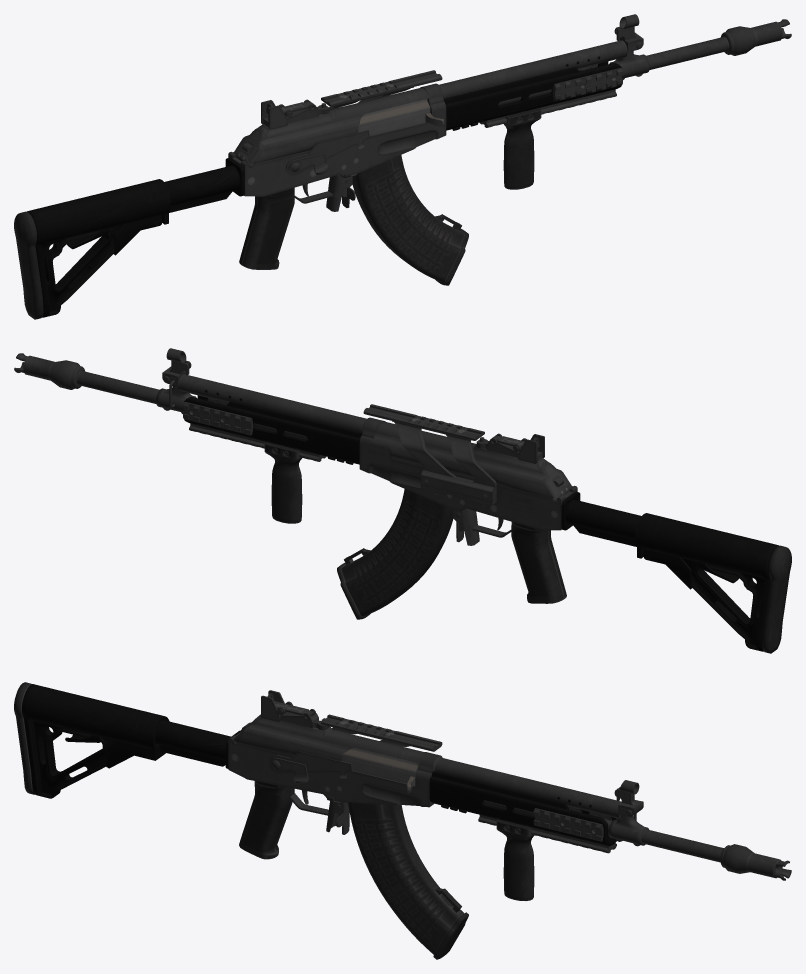
3 views of the same model, one above another, from view 1: azimuth 30°, elevation 25°; view 2: azimuth 150°, elevation 25°; view 3: azimuth 330°, elevation 25° (orthographic).
Visible parts, largest first — view 1: rk62m; view 2: rk62m; view 3: rk62m.
Part boxes in pixels (x1=…): rk62m: x1=14, y1=14, x2=791, y2=319; rk62m: x1=14, y1=348, x2=791, y2=653; rk62m: x1=14, y1=682, x2=791, y2=959.
Size of the model in its own units: 52.77 by 14.6 by 3.71.
4 materials, 4 textured.
